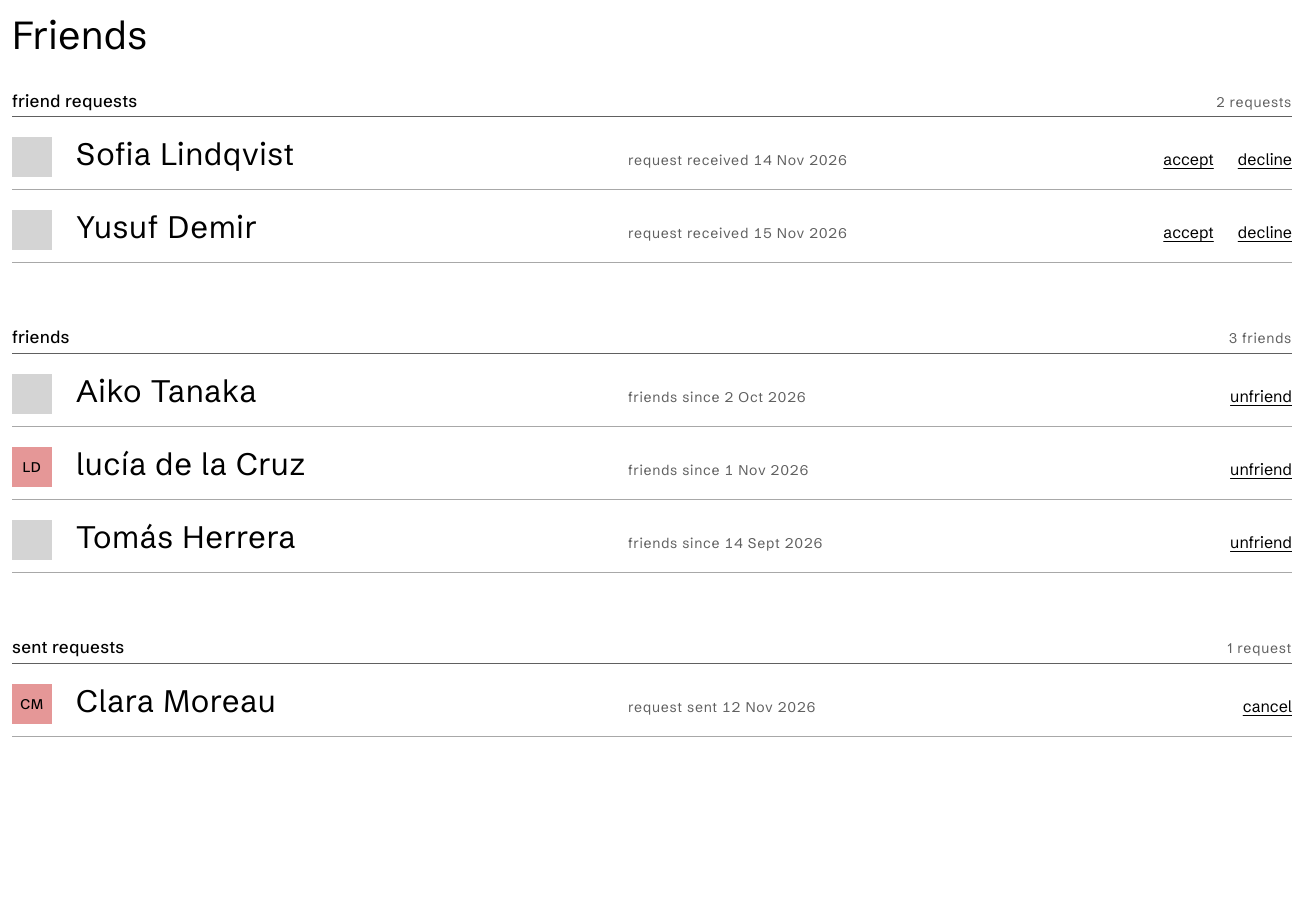
Scenario: FriendsPage actions (F-49, F-50, F-55, B-26, B-27) › F-55: "cancel" withdraws a sent request and the empty list says so
The image size is (1304, 912).
Check: the element "sent requests" is shown, box 12,637 -> 1292,737
Click the button named "cancel request to Clara Moreau".
click(1267, 706)  # box 1243,694 -> 1292,718
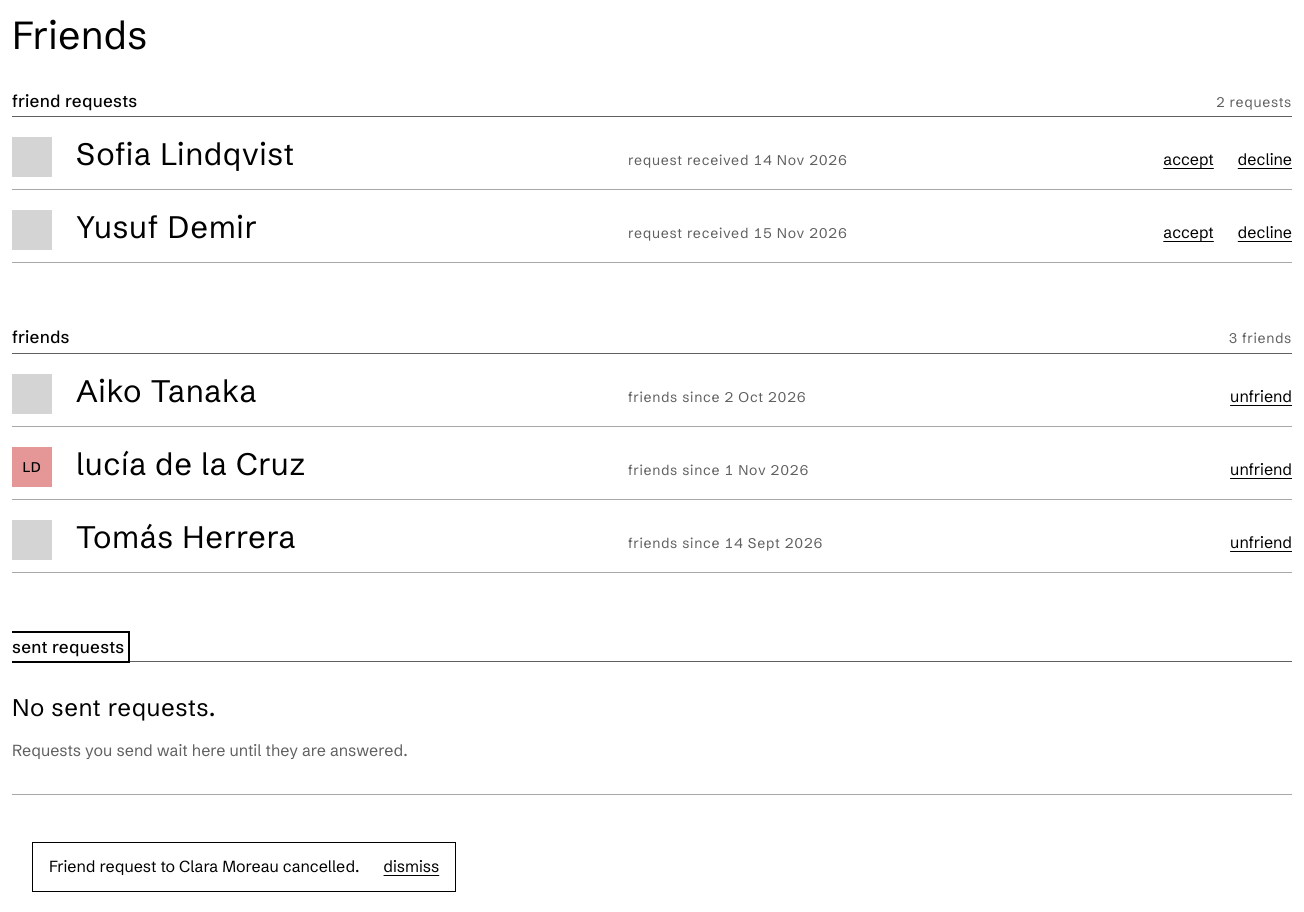
Check: the text "No sent requests." is shown, box 12,694 -> 216,723
